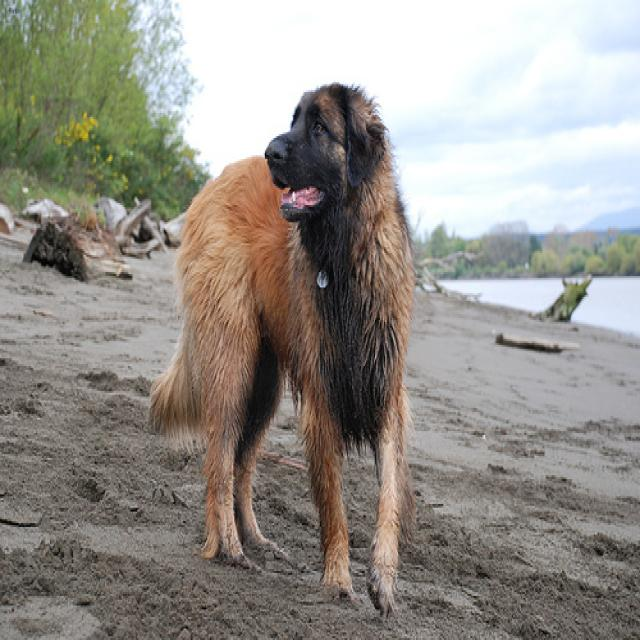dog-leonberger: (142, 73, 424, 636)
